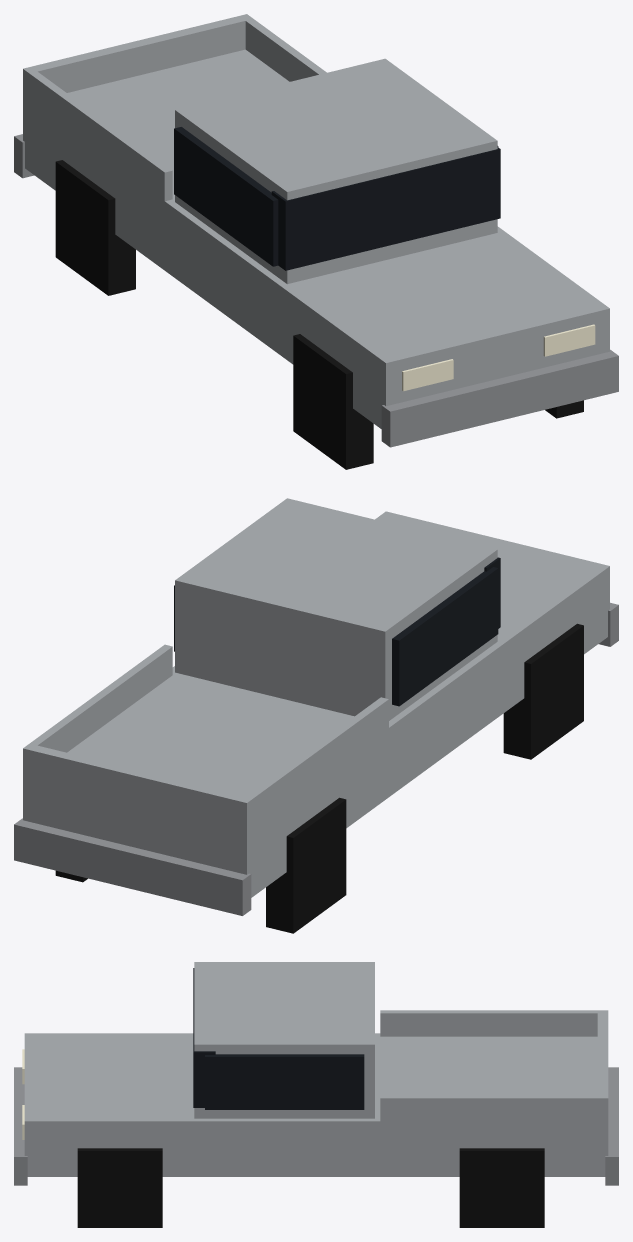
The model's file is pickup_silver.dae.
The picture shows the model from 3 angles, top to bottom: view 1: azimuth 30°, elevation 25°; view 2: azimuth 150°, elevation 25°; view 3: azimuth 270°, elevation 25°; orthographic projection. The views are drawn at different scales.
Visible parts, largest first — view 1: marker; view 2: marker; view 3: marker.
Boxes of the visible parts, left/top/right/bottom form: marker: left=14, top=14, right=618, bottom=469; marker: left=14, top=498, right=618, bottom=933; marker: left=14, top=962, right=618, bottom=1227.
Size of the model in its own units: 2.08 by 5.7 by 1.85.
